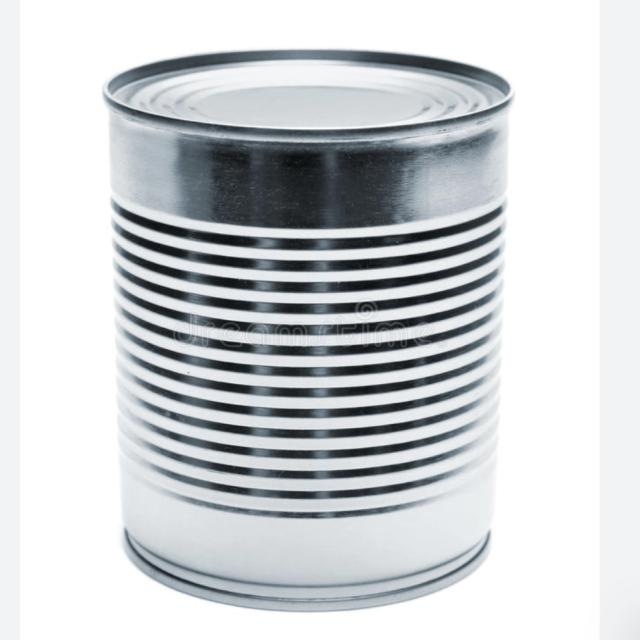recyclable: (68, 25, 558, 621)
